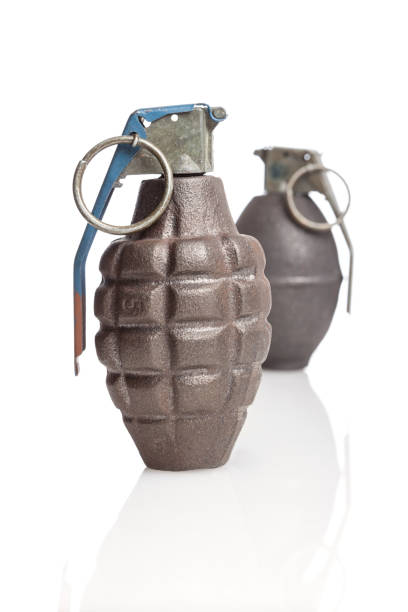e1: (65, 101, 273, 473)
